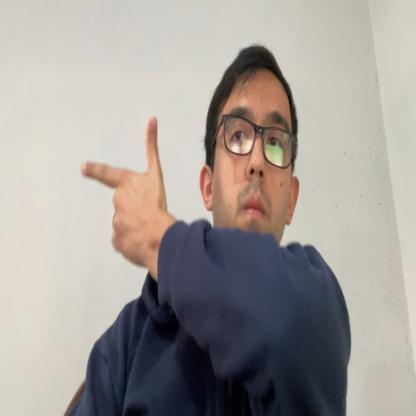G: (81, 113, 164, 266)
